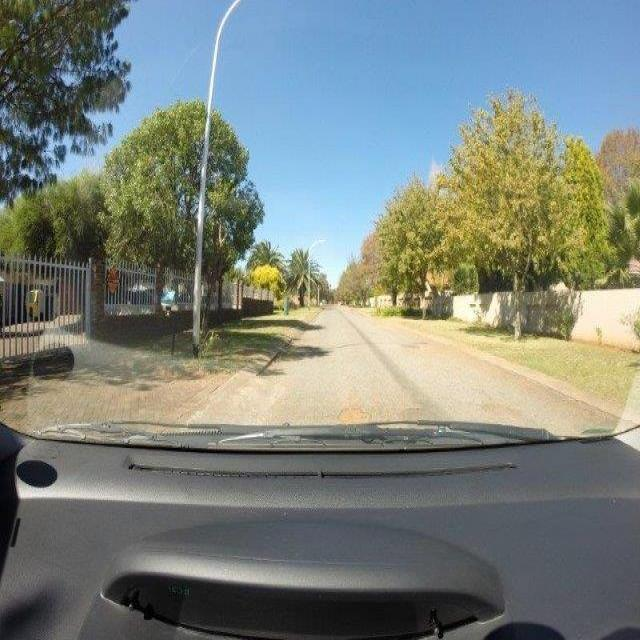lubang: (331, 407, 379, 425), (478, 400, 516, 421)
